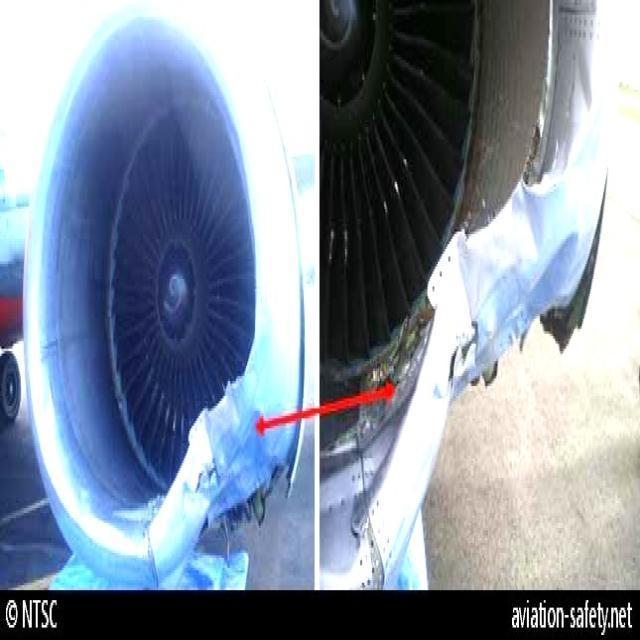dent: (507, 180, 549, 272), (449, 234, 481, 346), (568, 45, 596, 150)
